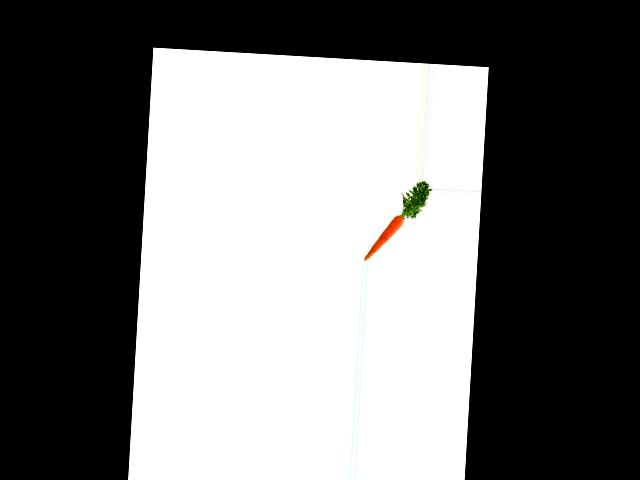carrot: (362, 208, 405, 264)
